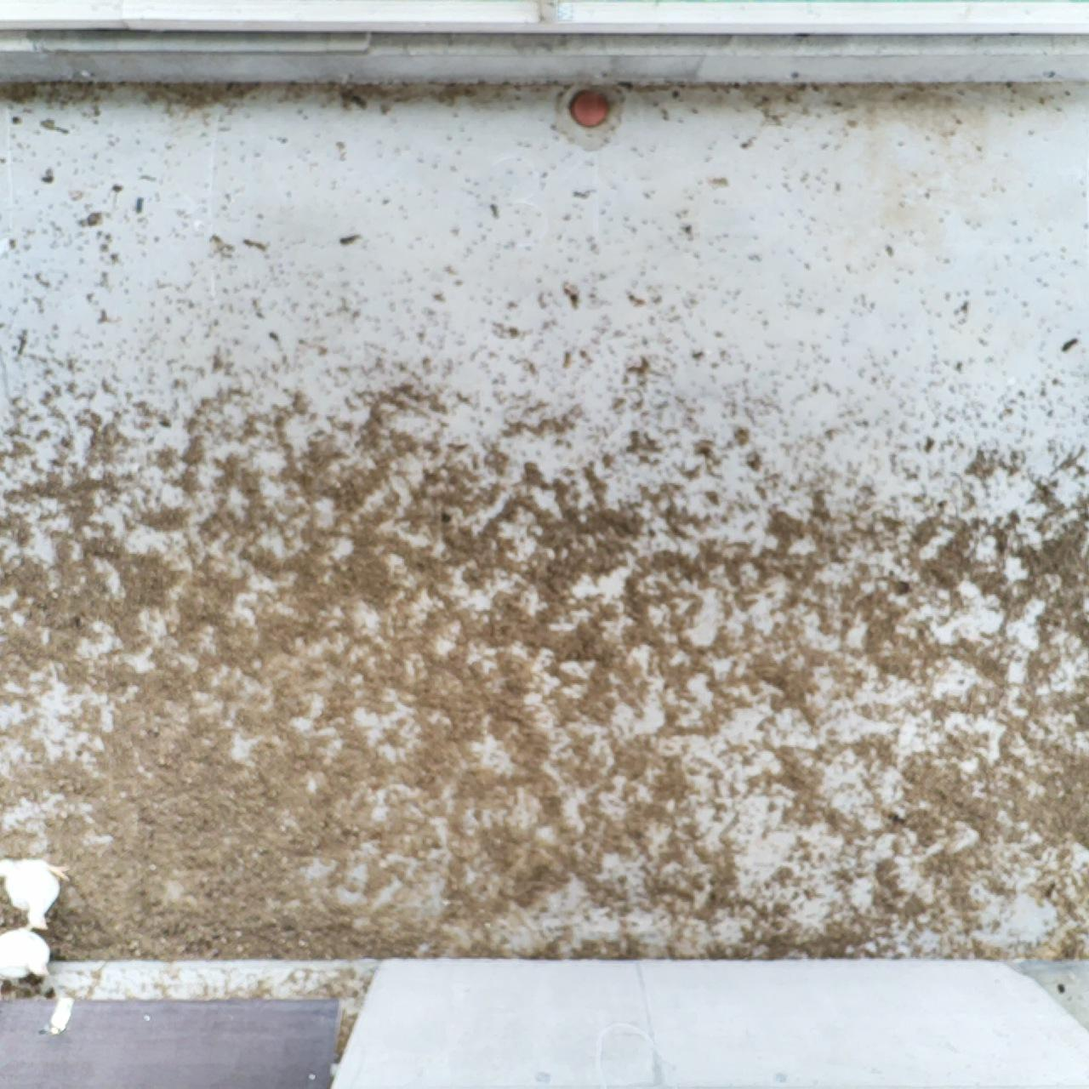chicken: (0, 851, 70, 932), (0, 929, 56, 986)
